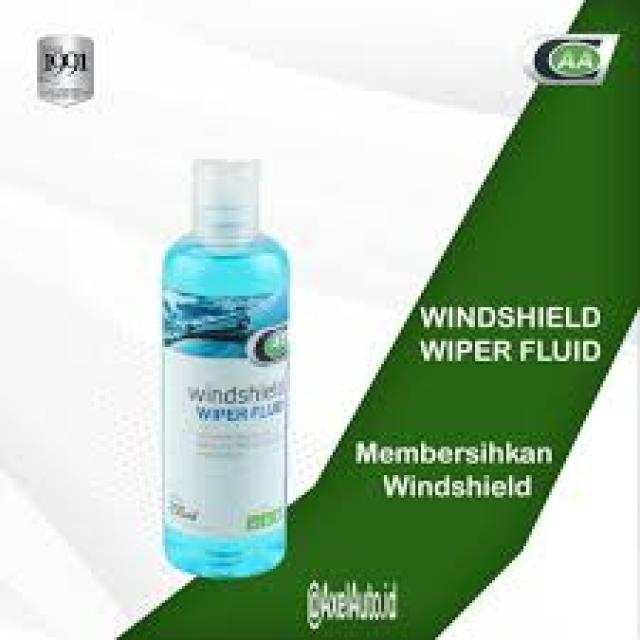winwinshield_washer: (156, 158, 294, 582)
